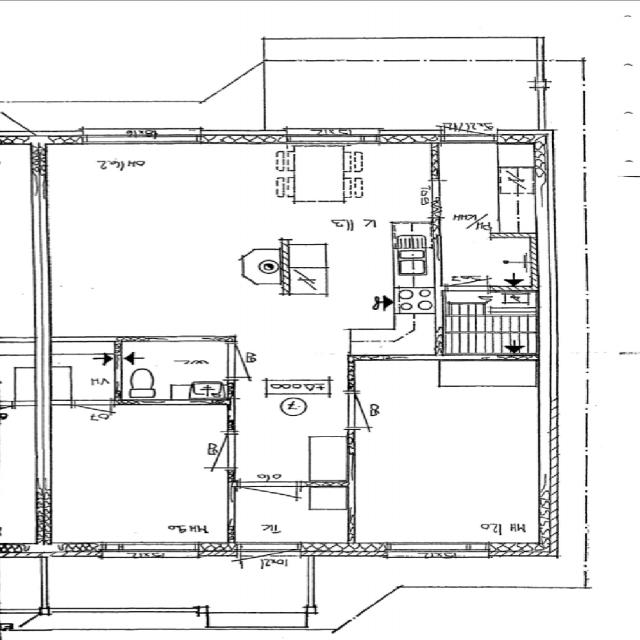door: (240, 542, 299, 598), (238, 481, 298, 526), (168, 430, 234, 469), (444, 98, 494, 144), (225, 344, 282, 377), (347, 394, 404, 427), (447, 257, 487, 291), (70, 399, 110, 431)
